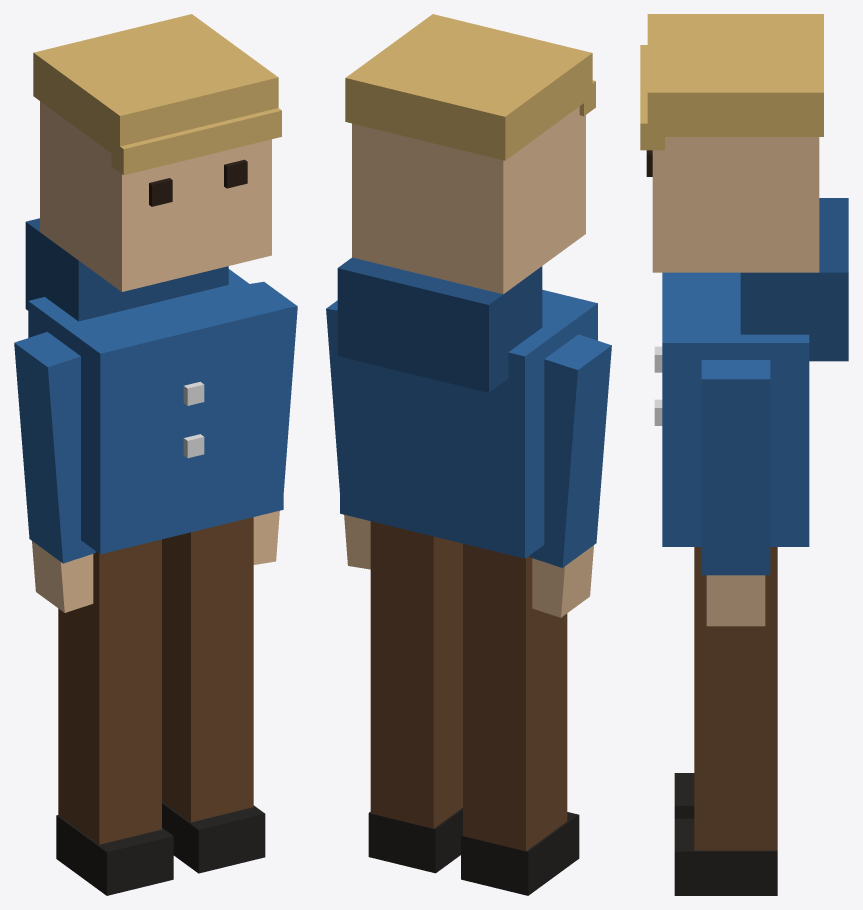
Rendered from viking.glb.
3 views of the same model, side by side, from view 1: azimuth 30°, elevation 25°; view 2: azimuth 150°, elevation 25°; view 3: azimuth 270°, elevation 25° (orthographic).
Parts seen in each view (by area): view 1: torso, legL, legR, face, hairTop, armL, hood, fringe, hand (×2), armR, head, spine; view 2: torso, legL, face, legR, hairTop, hood, armL, hand (×2), armR; view 3: legR, torso, face, hairTop, armR, hood, hand, fringe, legL, spine.
Part boxes in pixels (box(x1,y1,x2,y2)): torso: box(28, 269, 283, 554); legL: box(56, 539, 173, 895); legR: box(162, 517, 265, 873); face: box(40, 101, 271, 291); hairTop: box(33, 14, 278, 157); armL: box(14, 332, 95, 563); hood: box(25, 218, 228, 321); fringe: box(111, 108, 281, 175); hand (×2): box(32, 510, 279, 612); armR: box(250, 281, 297, 491); head: box(149, 159, 247, 206); spine: box(183, 381, 204, 458); torso: box(340, 289, 597, 558); legL: box(461, 543, 579, 895); face: box(352, 106, 585, 294); legR: box(368, 521, 462, 873); hairTop: box(345, 14, 592, 160); hood: box(337, 257, 542, 392); armL: box(529, 334, 611, 567); hand (×2): box(344, 514, 593, 617); armR: box(326, 300, 339, 491); legR: box(674, 547, 777, 895); torso: box(662, 272, 809, 546); face: box(652, 137, 819, 272); hairTop: box(647, 14, 823, 136); armR: box(701, 360, 770, 575); hood: box(740, 198, 848, 361); hand: box(706, 575, 765, 626); fringe: box(640, 45, 664, 150); legL: box(674, 773, 694, 818); spine: box(654, 346, 662, 425).
Size of the model in its own units: 0.5996 by 1.81 by 0.425.
